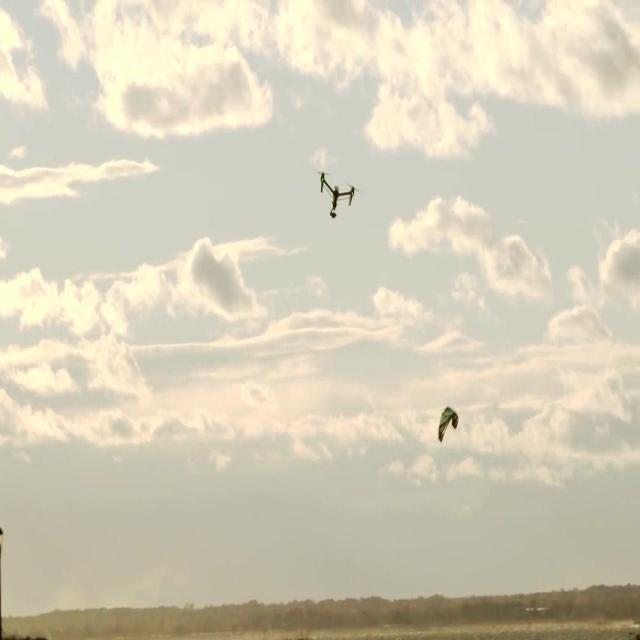UAV: (318, 169, 358, 219)
